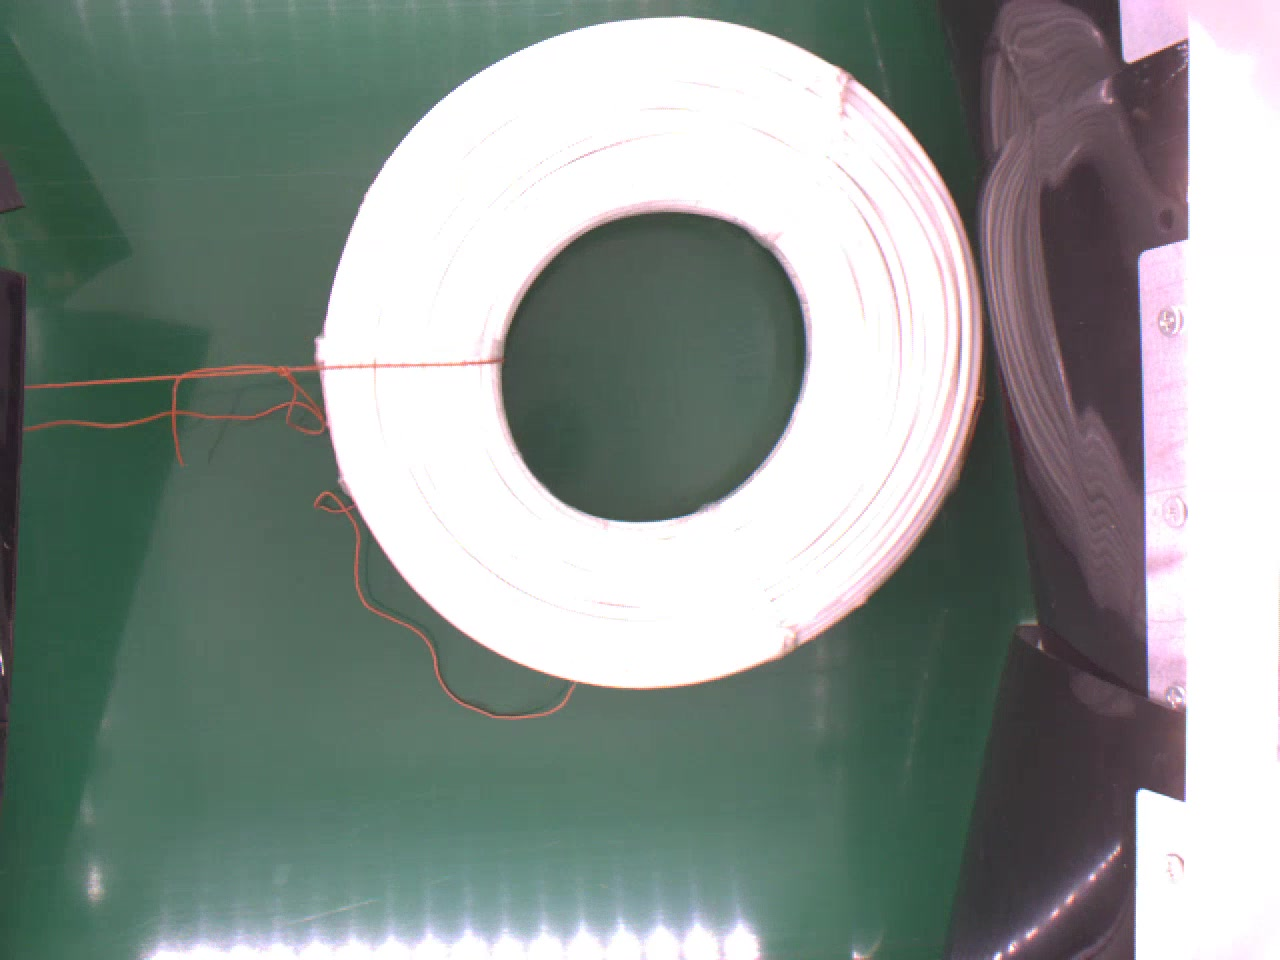white: (311, 15, 984, 693)
